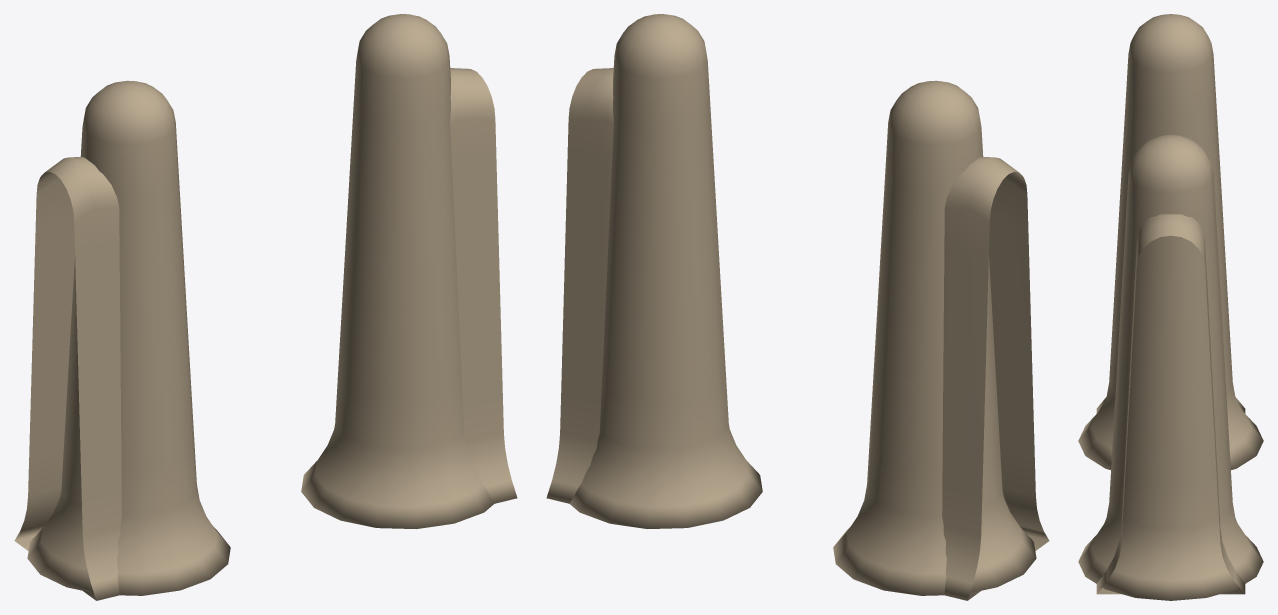
The model's file is KFB_Wall_gate.r4.glb.
The picture shows the model from 3 angles, left to right: view 1: azimuth 30°, elevation 25°; view 2: azimuth 150°, elevation 25°; view 3: azimuth 270°, elevation 25°; orthographic projection. The views are drawn at different scales.
Visible parts, largest first — view 1: KFB_Wall_gate; view 2: KFB_Wall_gate; view 3: KFB_Wall_gate.
Part boxes in pixels (x1,y1,x2,y2): KFB_Wall_gate: (14, 14, 517, 600); KFB_Wall_gate: (546, 14, 1049, 600); KFB_Wall_gate: (1078, 14, 1263, 600).
Size of the model in its own units: 4.29 by 4.25 by 1.69.
